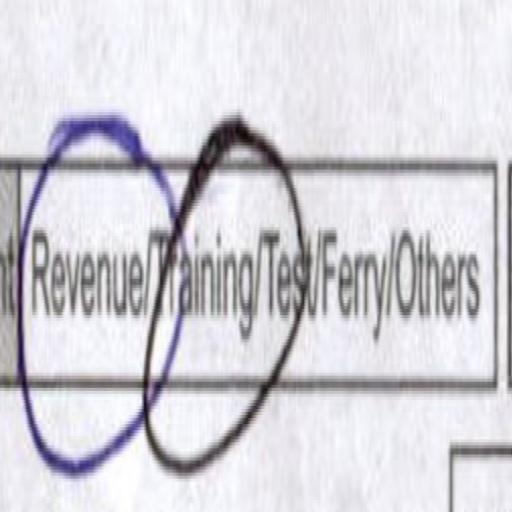check: (23, 129, 152, 477), (155, 107, 260, 479)
